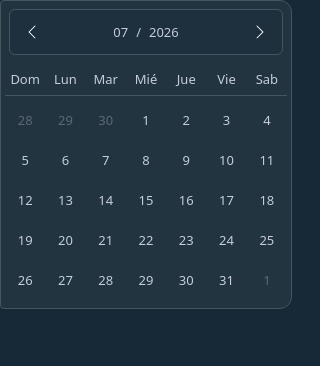
Test: DatePicker › navigates between months
Click the button named "Mes siguiente": (260, 32) [252, 24, 268, 40]
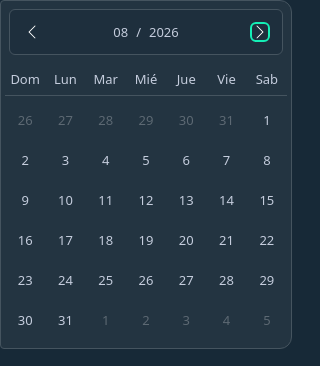
Check: the element named "Mes visible: 08/2026" is shown, box [113, 24, 179, 40]
Click the button named "Mes anterior": (32, 32) [24, 24, 40, 40]
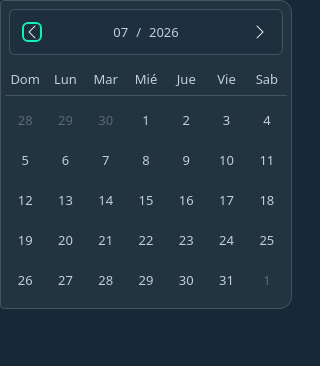
Click the button named "Mes anterior": (32, 32) [24, 24, 40, 40]
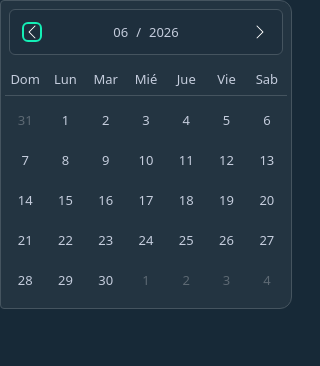
Check: the element named "Mes visible: 06/2026" is shown, box [113, 24, 179, 40]
